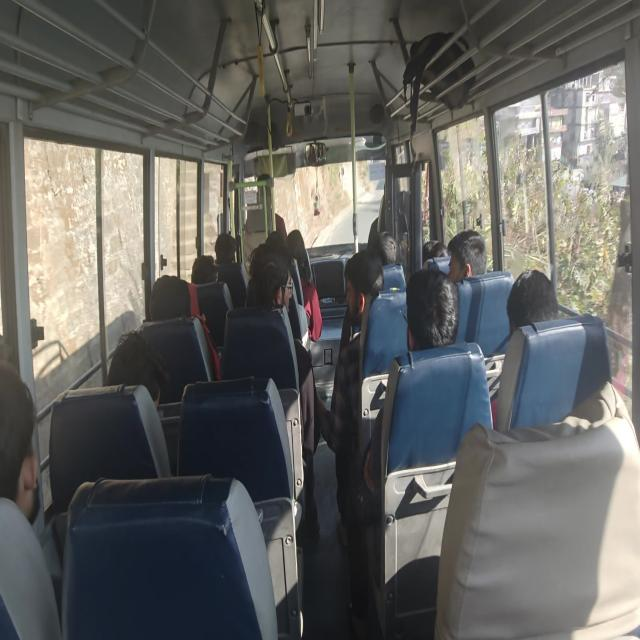person: (433, 380, 640, 638), (490, 268, 629, 432), (361, 266, 459, 494), (244, 243, 320, 533), (315, 248, 384, 543), (0, 360, 62, 638), (489, 268, 559, 428), (148, 274, 220, 381), (106, 329, 168, 412), (406, 267, 459, 351), (286, 229, 322, 342), (506, 268, 558, 332), (214, 232, 247, 308), (447, 229, 487, 282), (371, 230, 397, 266), (191, 254, 217, 284), (214, 232, 236, 264), (422, 239, 449, 265)
